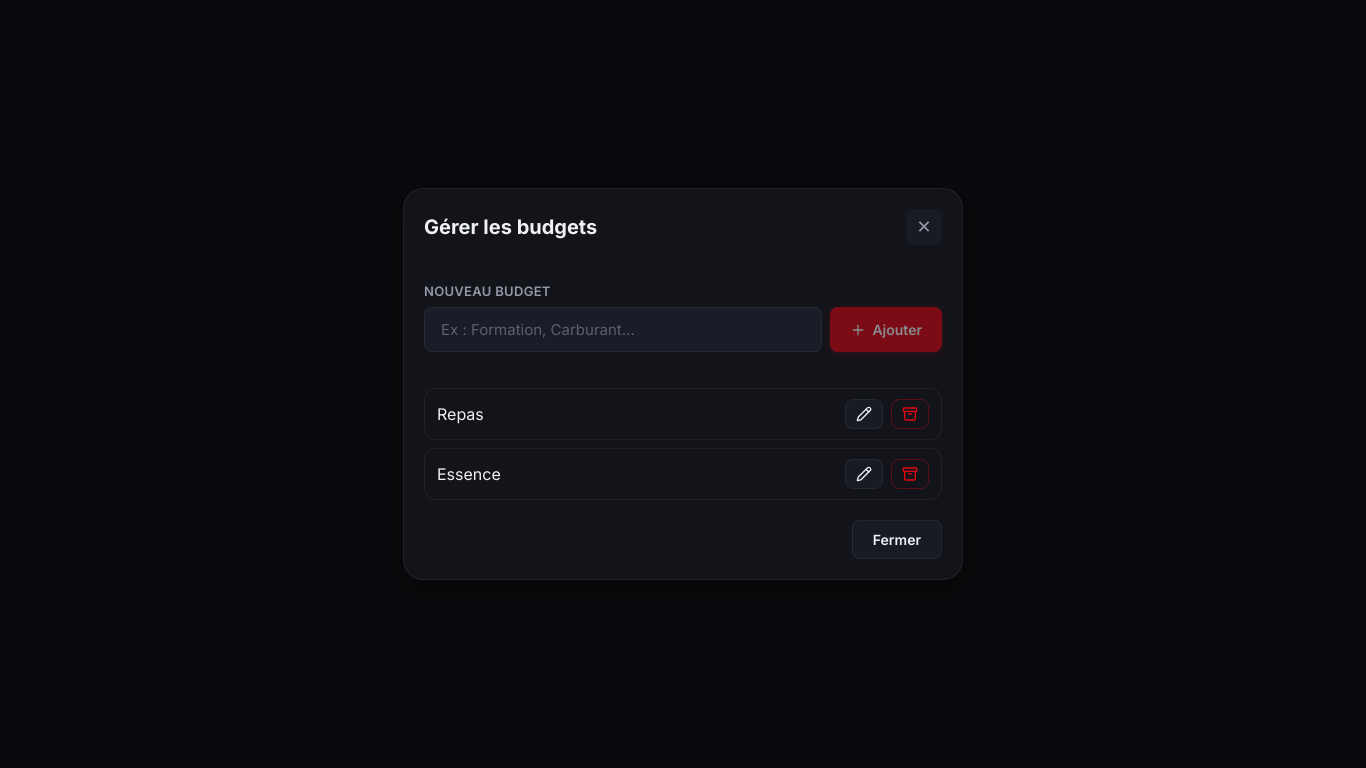
Test: ExpenseBudgetsModal › la modale archive un budget après confirmation
The image size is (1366, 768).
Expected: the text "Repas" is shown, [437,404,484,424]
What coordinates should you click on to do the following:
click the button named "Archiver Repas"
I would click on:
 (910, 414)
Its box is [891,399,929,429].
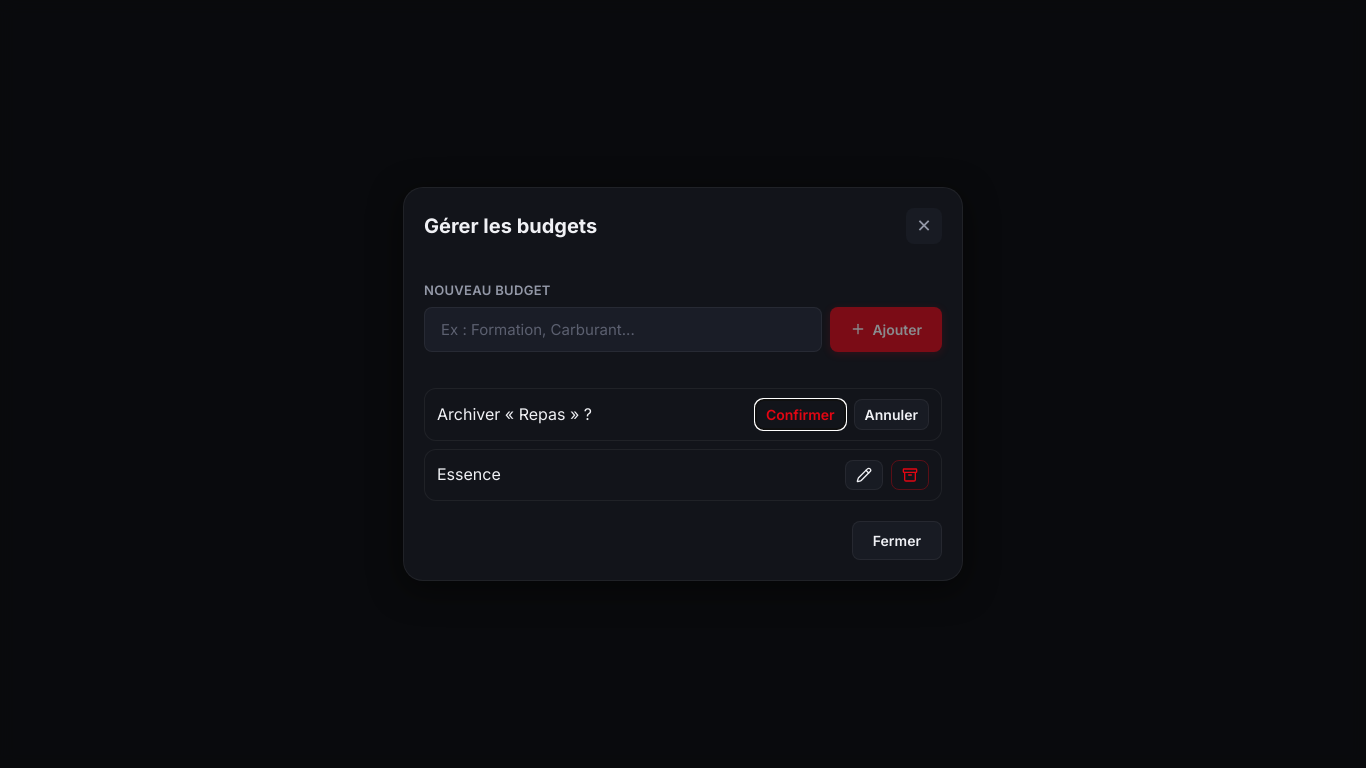
Expected: the text "Archiver « Repas » ?" is shown, [437,404,592,424]
What coordinates should you click on to do the following:
click the button "Confirmer"
I would click on:
 (800, 414)
Its box is [755,399,846,430].
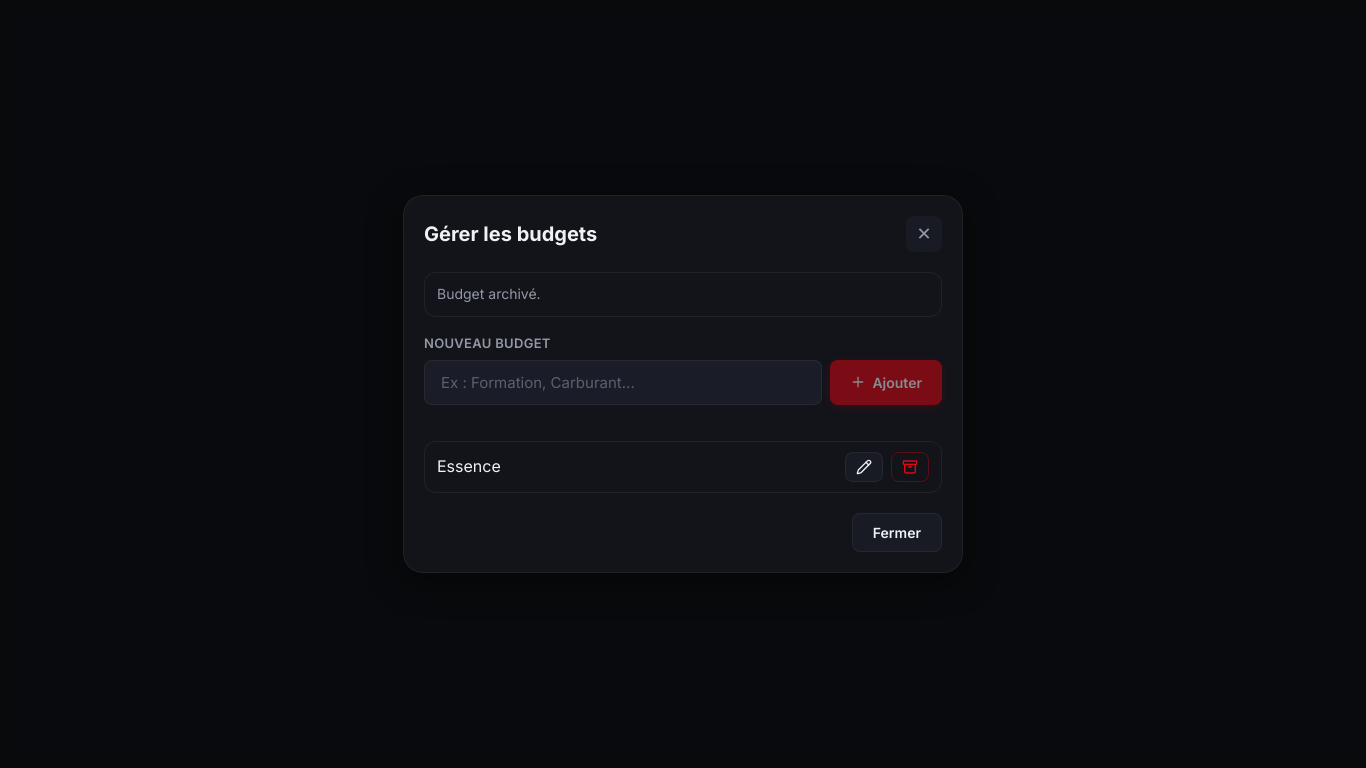
Expected: the text "Repas" is gone
